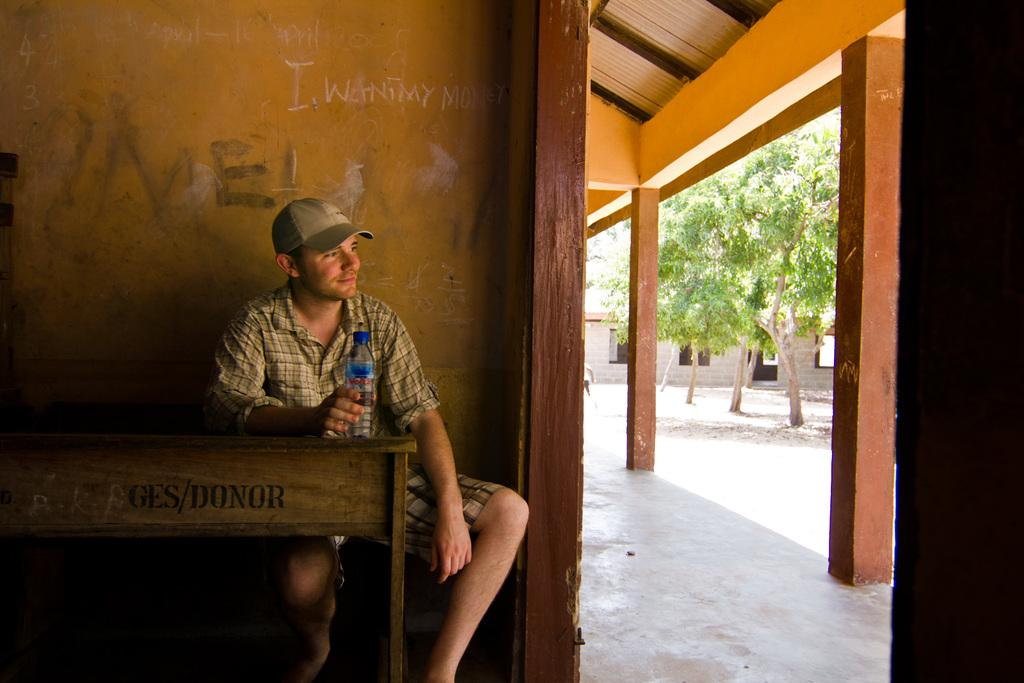Hat: (272, 195, 374, 255)
